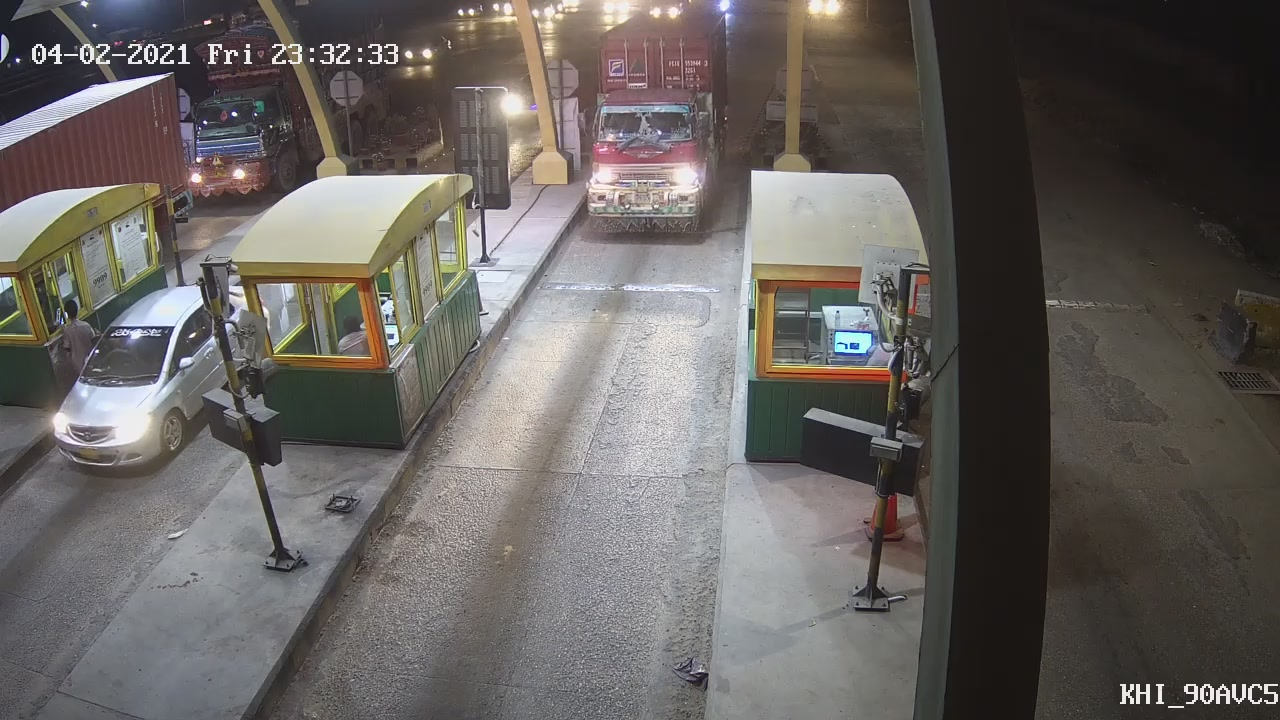F6: (573, 26, 718, 240)
